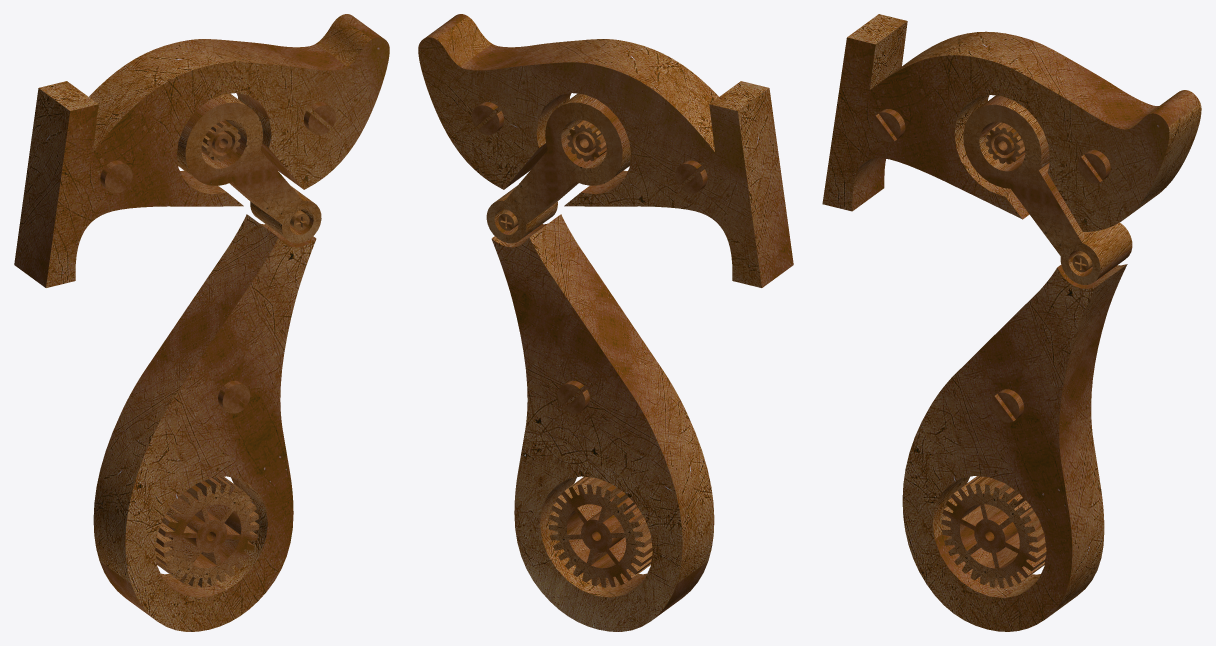
The picture shows the model from 3 angles, left to right: view 1: azimuth 30°, elevation 25°; view 2: azimuth 150°, elevation 25°; view 3: azimuth 330°, elevation 25°; orthographic projection.
Visible parts, largest first — view 1: 020, 046, Lever_039, Cogwheel_356, Cogwheel_350, Screw_693, Screw_677, Screw_708; view 2: 020, 046, Lever_039, Cogwheel_356, Cogwheel_350, Screw_693, Screw_677, Screw_708; view 3: 020, 046, Lever_039, Cogwheel_356, Cogwheel_350, Screw_677, Screw_708, Screw_693.
Boxes of the visible parts, box(x1,y1,x2,y2) form: 020: box(93, 214, 316, 631); 046: box(14, 14, 389, 287); Lever_039: box(177, 93, 321, 243); Cogwheel_356: box(155, 476, 259, 587); Cogwheel_350: box(201, 120, 240, 161); Screw_693: box(100, 160, 132, 193); Screw_677: box(218, 380, 250, 413); Screw_708: box(304, 102, 335, 134); 020: box(491, 214, 714, 631); 046: box(418, 14, 793, 287); Lever_039: box(486, 93, 630, 243); Cogwheel_356: box(548, 476, 652, 587); Cogwheel_350: box(567, 120, 606, 161); Screw_693: box(675, 160, 707, 193); Screw_677: box(557, 380, 589, 413); Screw_708: box(472, 102, 503, 134); 020: box(902, 264, 1127, 631); 046: box(822, 14, 1201, 231); Lever_039: box(963, 95, 1132, 284); Cogwheel_356: box(941, 476, 1046, 588); Cogwheel_350: box(985, 122, 1025, 164); Screw_677: box(991, 389, 1023, 422); Screw_708: box(1078, 150, 1110, 183); Screw_693: box(872, 109, 905, 142).
Size of the model in its own units: 62.55 by 98.09 by 12.89.
1 material, 1 textured.
